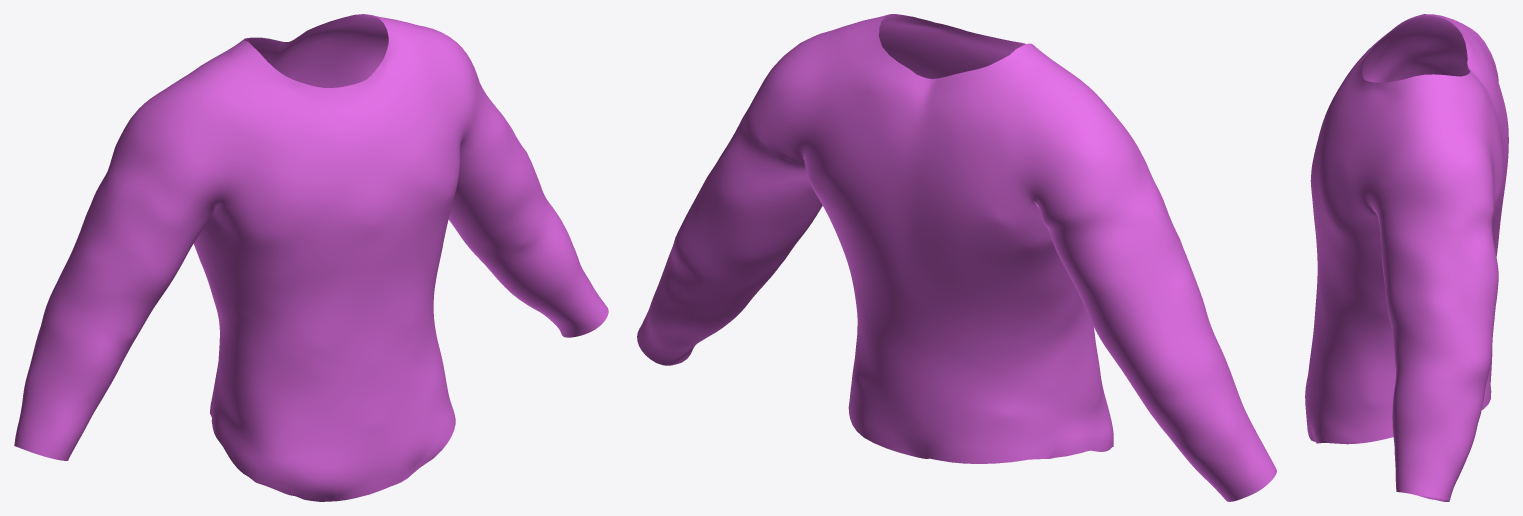
File: Male-Medium-Shirt.glb
3 views of the same model, side by side, from view 1: azimuth 30°, elevation 25°; view 2: azimuth 150°, elevation 25°; view 3: azimuth 270°, elevation 25° (orthographic). The views are drawn at different scales.
Visible parts, largest first — view 1: Group1.012; view 2: Group1.012; view 3: Group1.012.
Part boxes in pixels (x1,y1,x2,y2): Group1.012: [14, 14, 608, 501]; Group1.012: [637, 14, 1276, 501]; Group1.012: [1305, 14, 1508, 501].
Bounding box in the file's own units: 1.86 × 1.27 × 0.6029.
